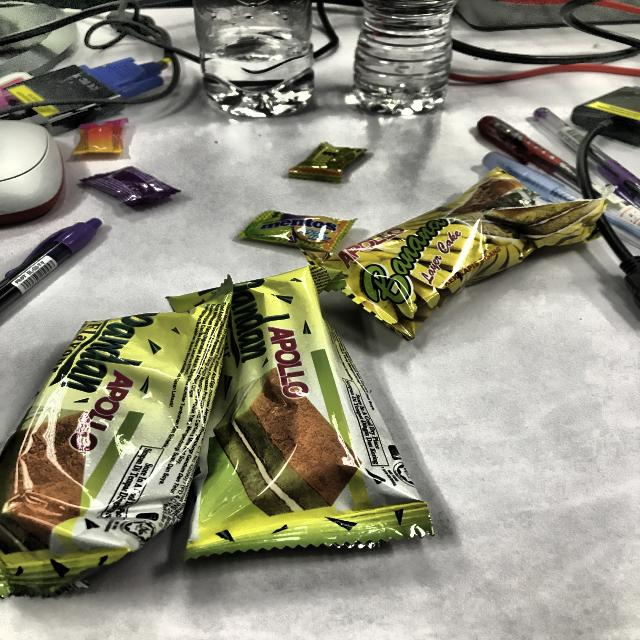Plastic: (159, 272, 433, 542), (0, 290, 231, 582), (341, 163, 483, 306)
